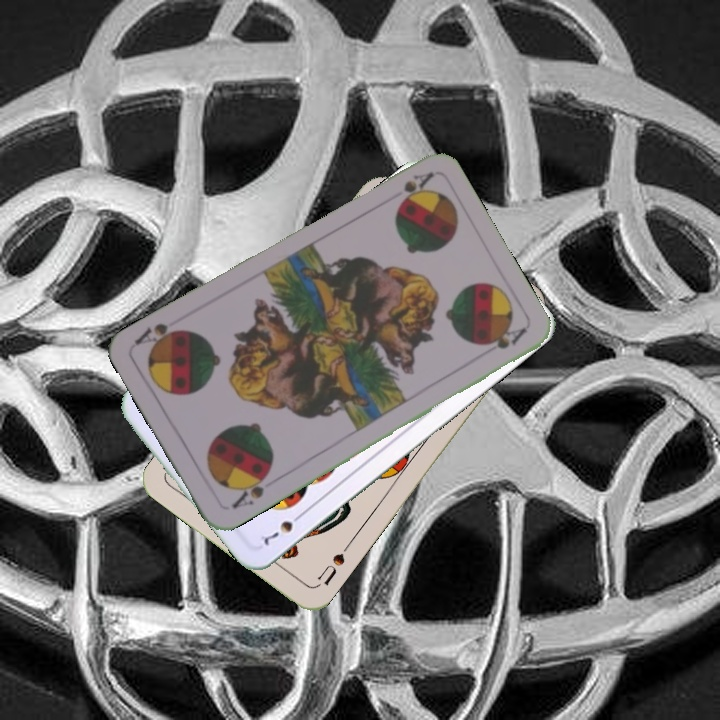S7: (256, 508, 307, 548)
SA: (228, 467, 273, 511), (394, 168, 436, 207)
SU: (312, 539, 353, 590)
